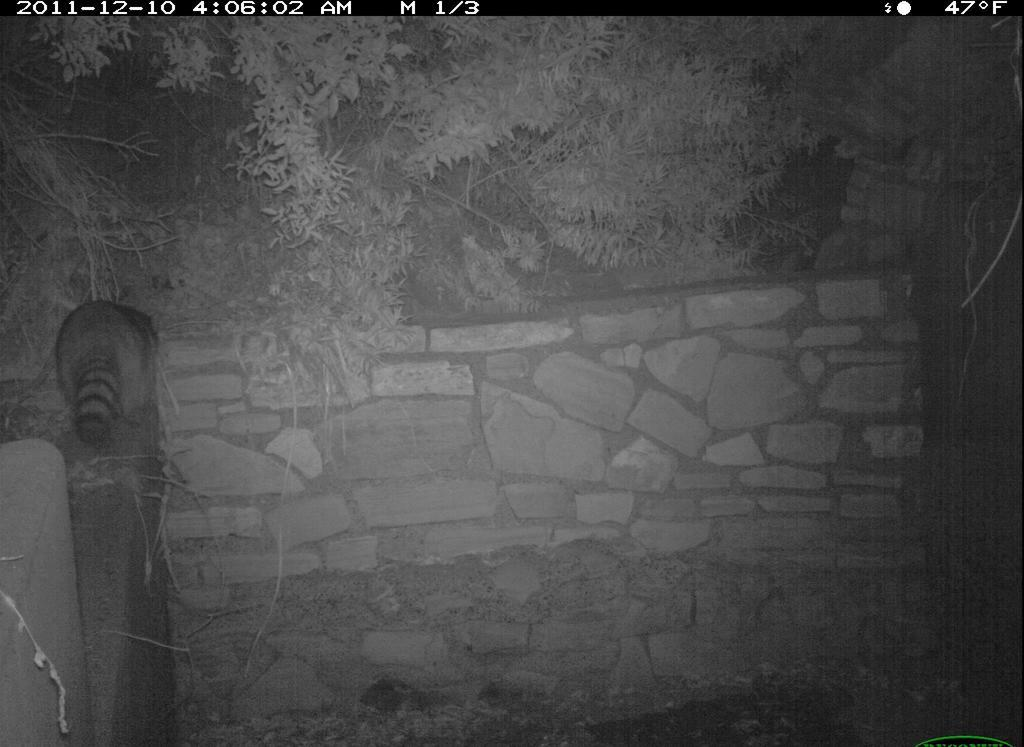raccoon: (48, 292, 168, 452)
